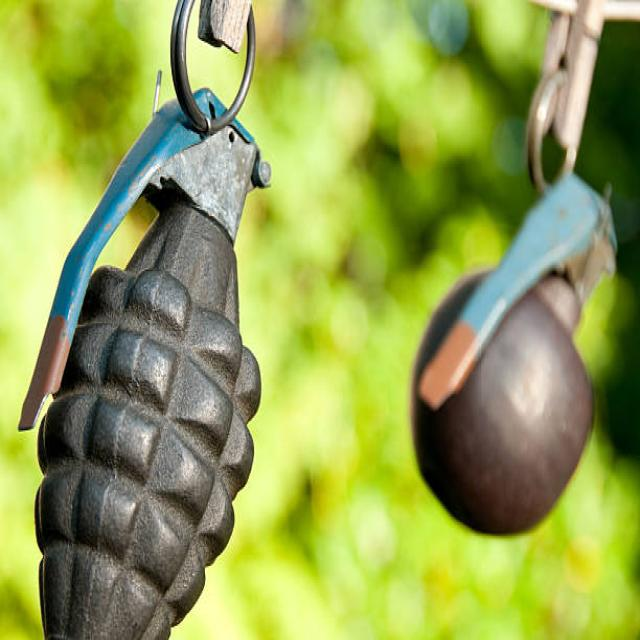grenade: (17, 1, 281, 640), (404, 157, 620, 553)
